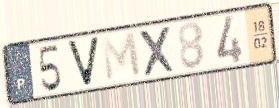4: (214, 12, 245, 66)
5: (36, 43, 63, 92)
8: (176, 19, 207, 73)
M: (100, 30, 144, 85)
V: (64, 35, 102, 89)
X: (137, 24, 178, 79)
